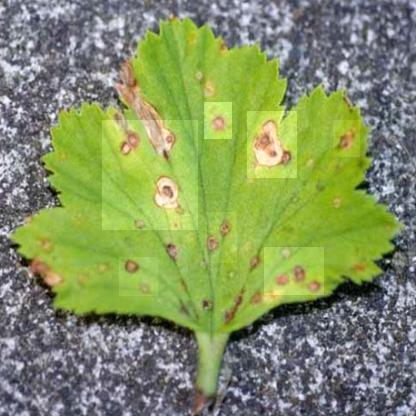black-spot: (102, 120, 198, 230), (247, 111, 297, 178), (264, 247, 324, 295), (205, 212, 237, 263), (119, 257, 158, 296), (204, 102, 232, 139), (333, 120, 360, 157)
